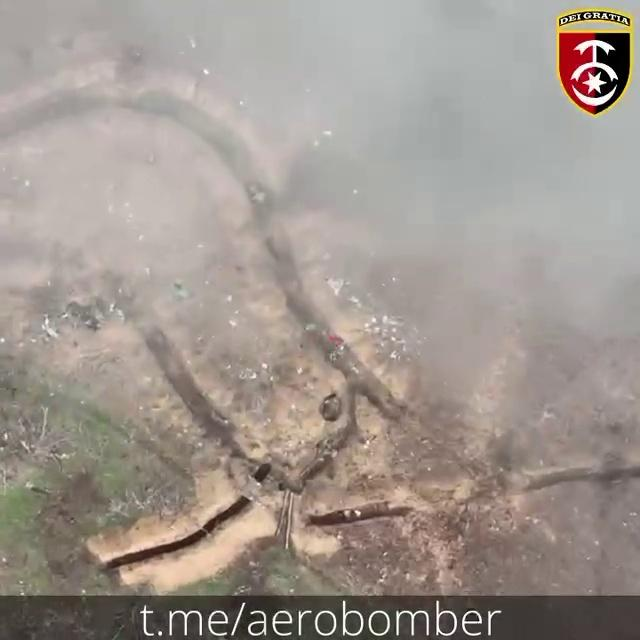person: (244, 184, 269, 206), (328, 344, 342, 362)
trench: (4, 82, 404, 489), (312, 454, 640, 536), (103, 494, 261, 575)
